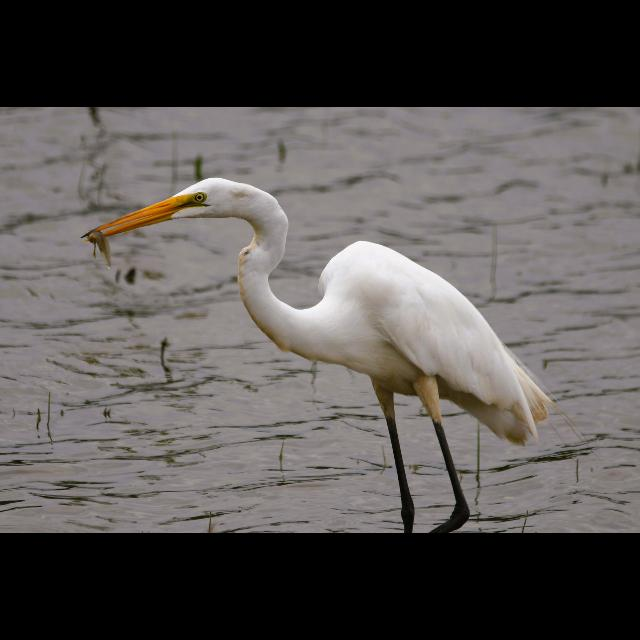egret: (87, 176, 545, 510)
